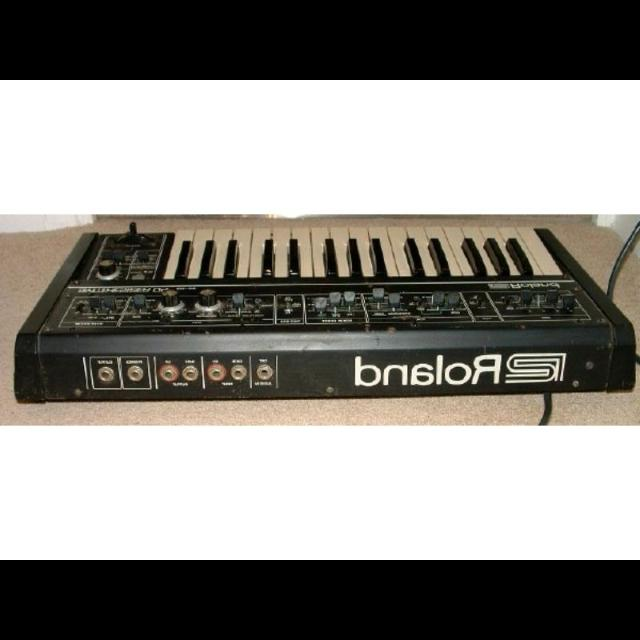Electronic-Keyboard: (8, 218, 632, 406)
